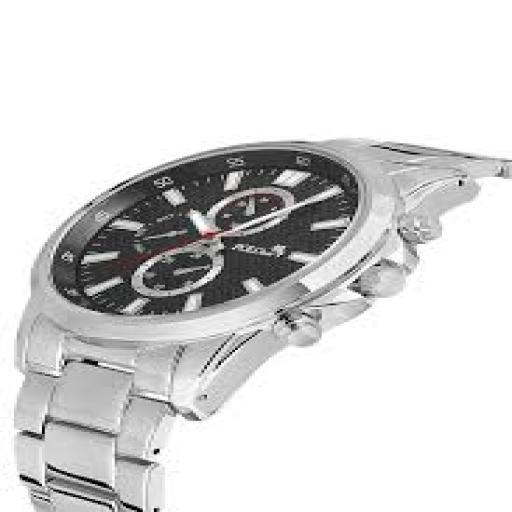KolSaati: (4, 114, 511, 512)
